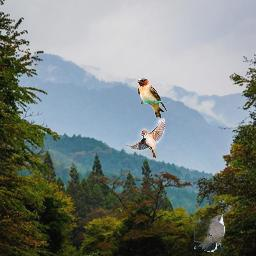Cuckoo: (194, 212, 226, 252)
Sparrow: (126, 118, 165, 158)
Swallow: (136, 78, 168, 118)
